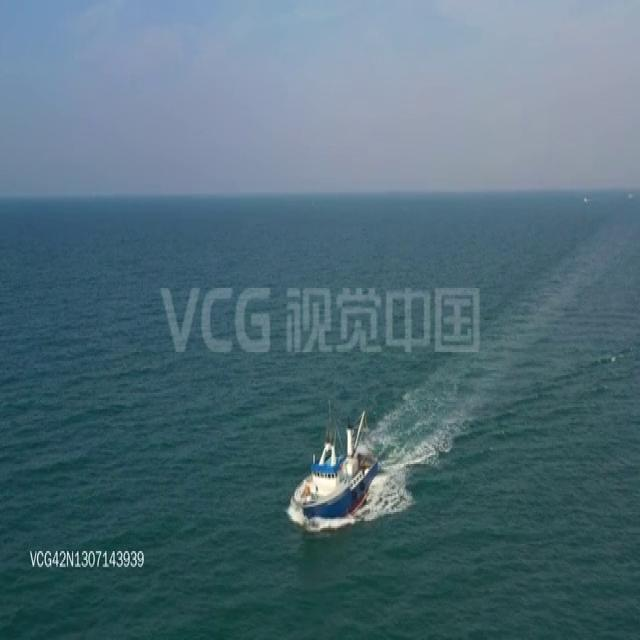houseboat: (290, 406, 381, 527)
